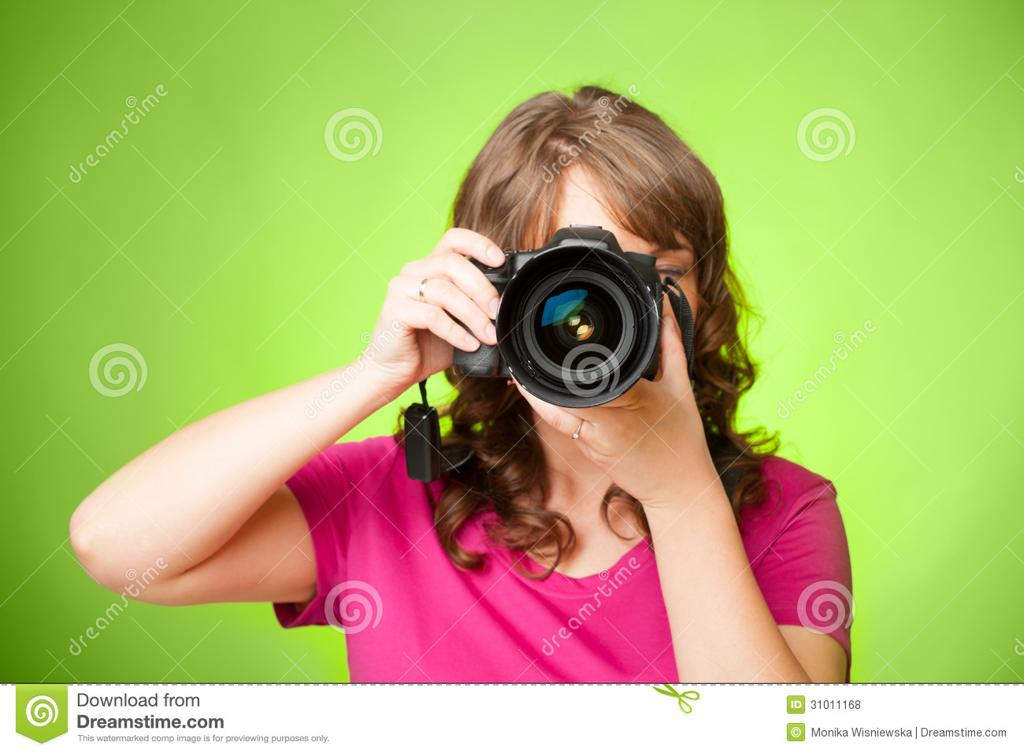face: (516, 196, 704, 444)
